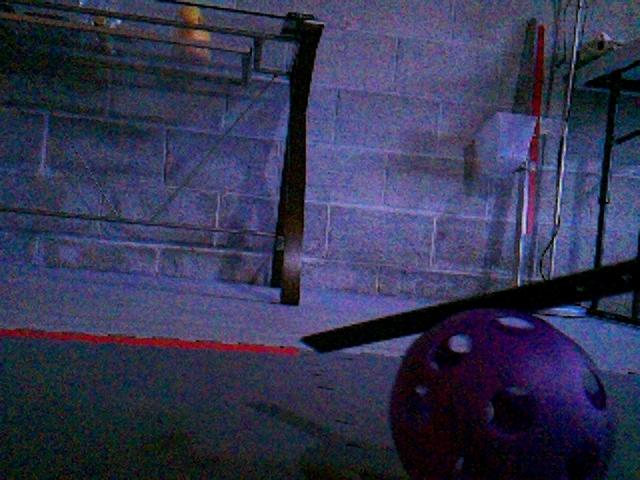Purple: (385, 303, 618, 477)
